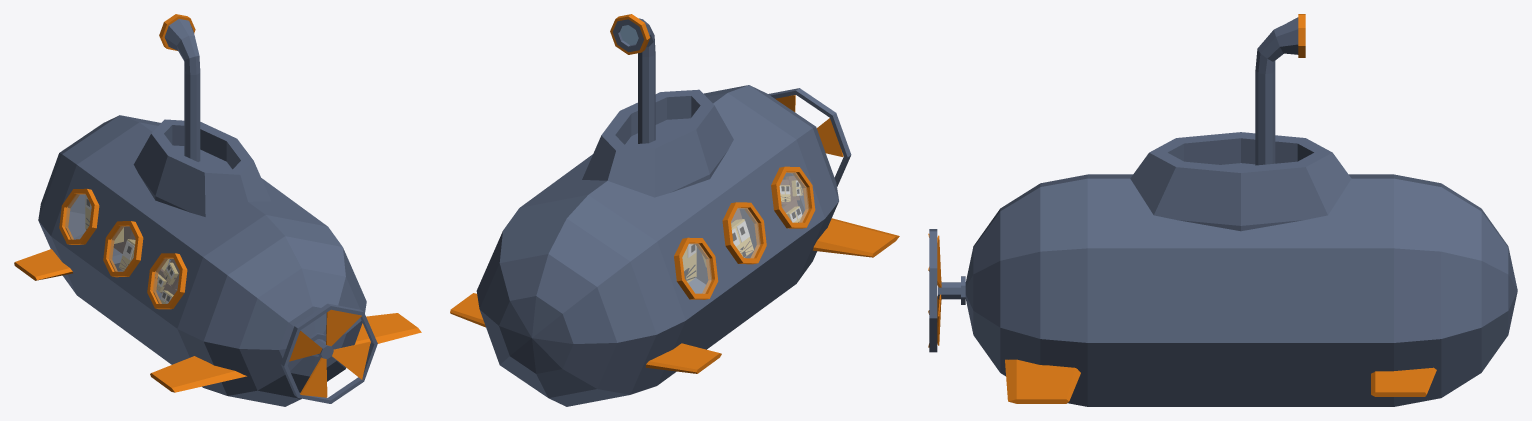
Rendered from lionSubmariners.glb.
The picture shows the model from 3 angles, left to right: view 1: azimuth 30°, elevation 25°; view 2: azimuth 150°, elevation 25°; view 3: azimuth 270°, elevation 25°; orthographic projection. The views are drawn at different scales.
Visible parts, largest first — view 1: sub body, sub windows, sub fin back.002, sub periscope, sub prop, sub fin front, lion head, lion head.001; view 2: sub body, sub windows, sub periscope, sub fin back.002, sub fin front, sub prop, lion head.001, lion head; view 3: sub body, sub periscope, sub fin back.002, sub fin front.
Part boxes in pixels (x1,y1,x2,y2): sub body: [38, 115, 377, 406]; sub windows: [59, 188, 187, 309]; sub fin back.002: [150, 313, 421, 392]; sub periscope: [159, 14, 200, 161]; sub prop: [289, 309, 370, 397]; sub fin front: [14, 233, 171, 280]; lion head: [85, 195, 131, 253]; lion head.001: [119, 231, 169, 271]; sub body: [476, 85, 851, 406]; sub windows: [674, 166, 815, 299]; sub periscope: [610, 14, 655, 143]; sub fin back.002: [812, 218, 899, 257]; sub fin front: [450, 293, 721, 373]; sub prop: [775, 95, 843, 156]; lion head.001: [702, 208, 753, 267]; lion head: [682, 244, 696, 282]; sub body: [929, 132, 1517, 406]; sub periscope: [1255, 14, 1305, 165]; sub fin back.002: [1005, 359, 1080, 403]; sub fin front: [1371, 367, 1436, 396].
Bounding box in the file's own units: 2.79 × 3.46 × 4.77.
